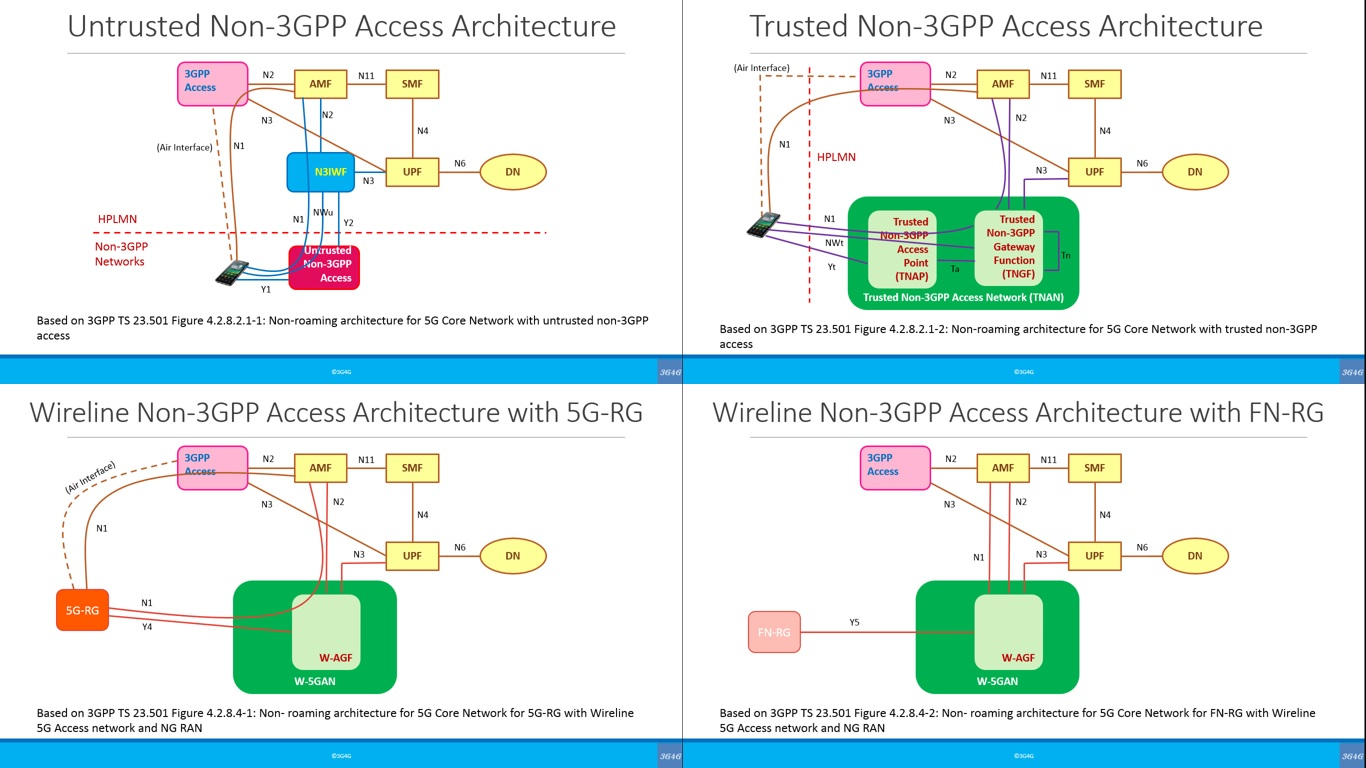sa: (216, 248, 251, 302)
